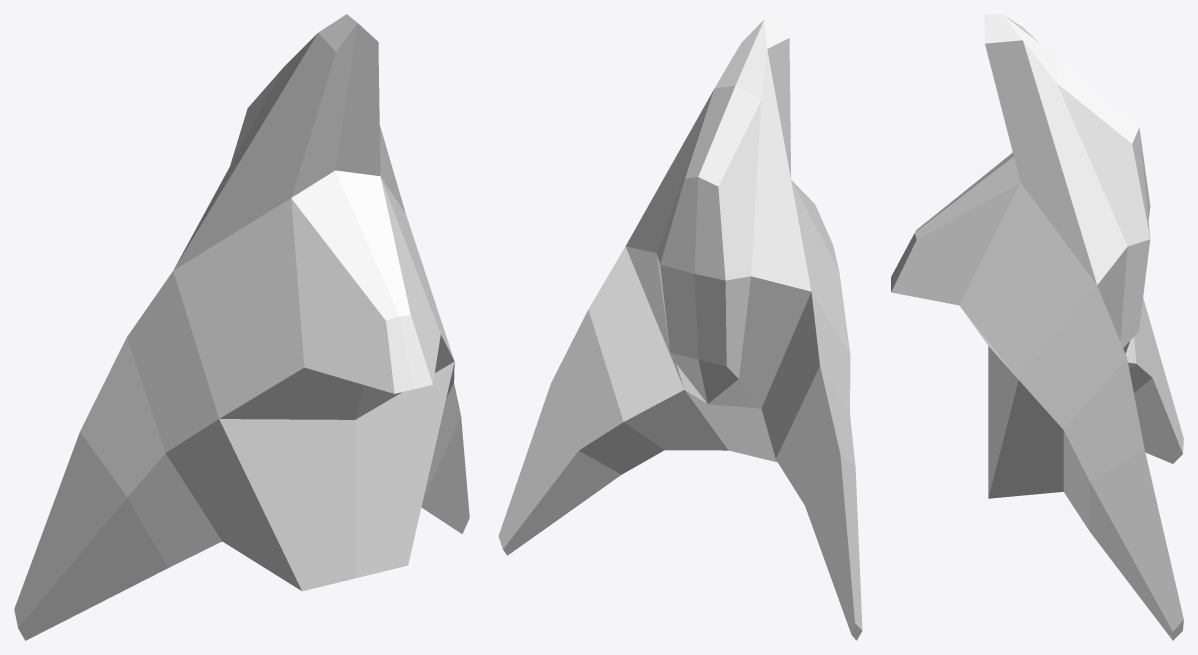
Rendered from head_13.fbx.
3 views of the same model, side by side, from view 1: azimuth 30°, elevation 25°; view 2: azimuth 150°, elevation 25°; view 3: azimuth 270°, elevation 25° (orthographic). The views are drawn at different scales.
Parts seen in each view (by area): view 1: Cube.136; view 2: Cube.136; view 3: Cube.136.
Part boxes in pixels (bbox=[...]): Cube.136: bbox=[14, 14, 469, 640]; Cube.136: bbox=[498, 14, 862, 640]; Cube.136: bbox=[891, 14, 1183, 640].
Bounding box in the file's own units: 31.65 × 43.45 × 21.41.
